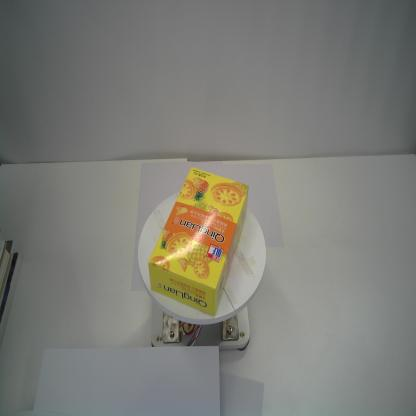Dessert: (148, 167, 250, 316)
